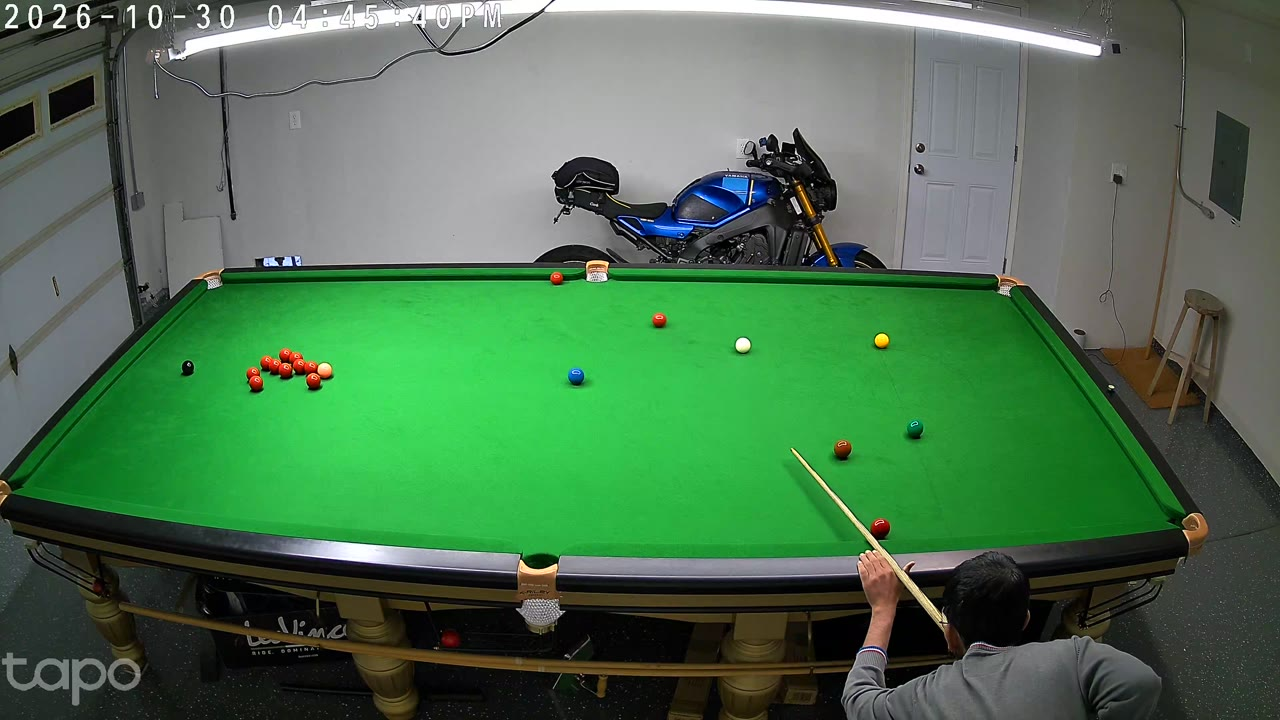black: (182, 358, 194, 378)
blue: (568, 366, 584, 388)
brown: (834, 438, 852, 462)
green: (907, 417, 923, 441)
pink: (318, 362, 331, 382)
red: (870, 515, 891, 544), (247, 366, 260, 386), (251, 374, 263, 394), (307, 371, 319, 391), (653, 312, 666, 330), (280, 362, 292, 381), (279, 348, 290, 368), (305, 360, 316, 379), (289, 350, 299, 370), (261, 355, 272, 373), (271, 357, 281, 376), (551, 271, 562, 288), (294, 358, 304, 376)
white: (735, 336, 751, 356)
yellow: (875, 332, 889, 351)
